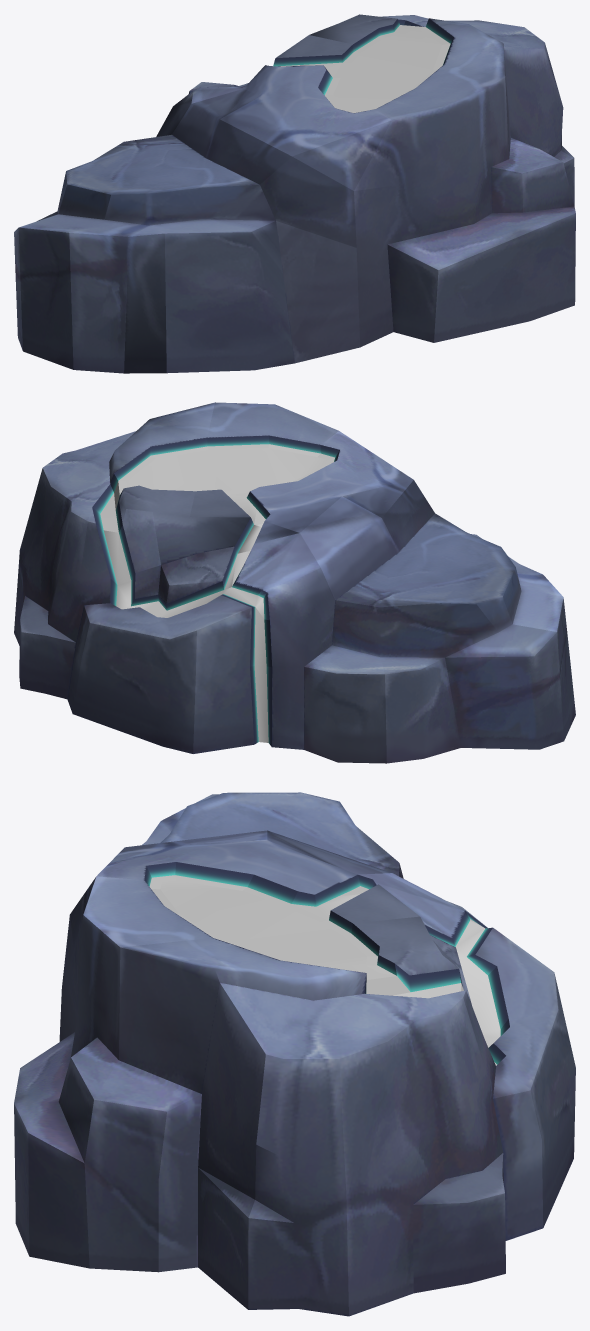
Rendered from Snake_rock_01.fbx.
3 views of the same model, one above another, from view 1: azimuth 30°, elevation 25°; view 2: azimuth 150°, elevation 25°; view 3: azimuth 270°, elevation 25° (orthographic). The views are drawn at different scales.
Parts seen in each view (by area): view 1: Snake_rock_01; view 2: Snake_rock_01; view 3: Snake_rock_01.
Part boxes in pixels (bbox=[...]): Snake_rock_01: bbox=[14, 14, 575, 373]; Snake_rock_01: bbox=[14, 402, 575, 763]; Snake_rock_01: bbox=[14, 792, 575, 1316].
Bounding box in the file's own units: 339 × 124 × 222.
